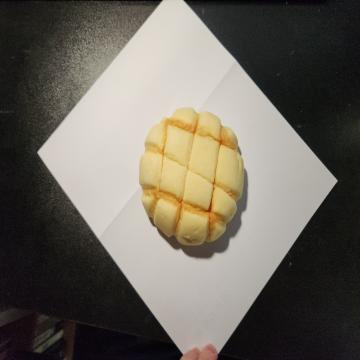melon_bread: (139, 107, 245, 246)
